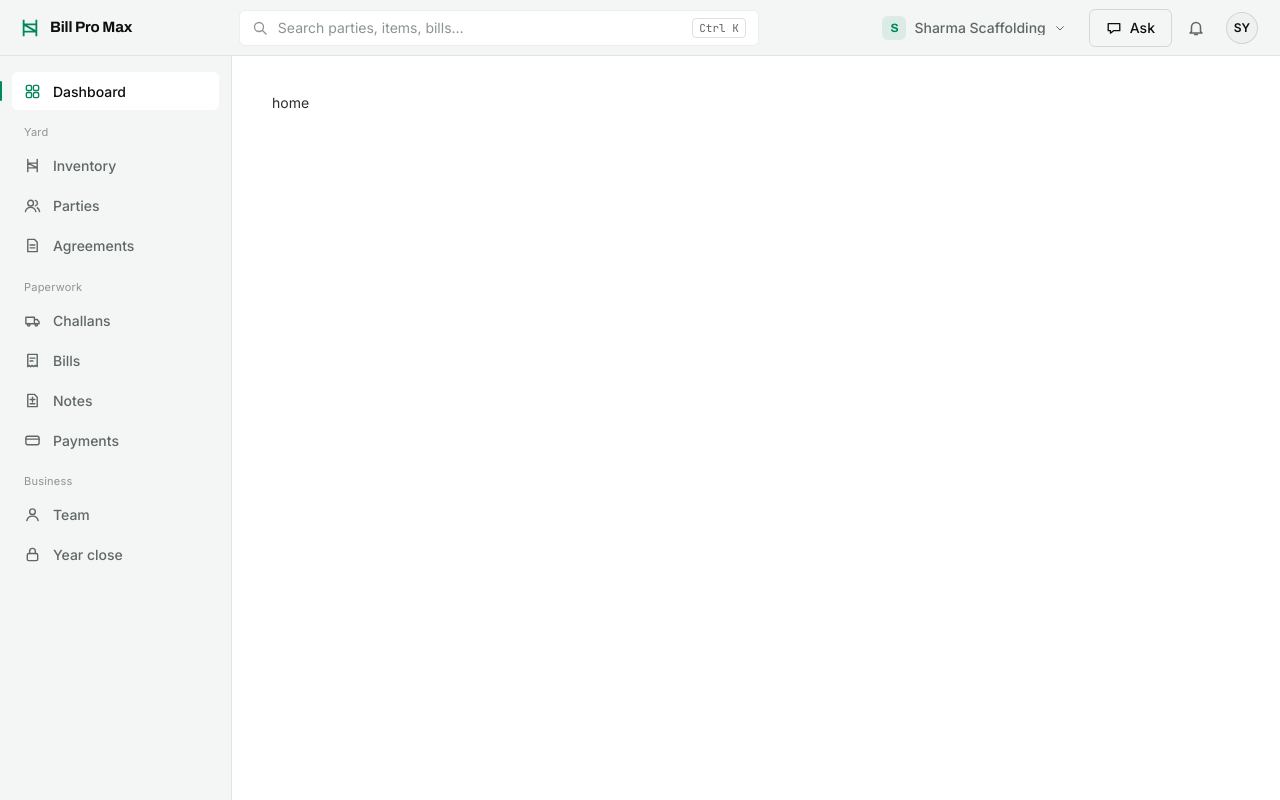
Test: Layout › picks the theme from the profile menu
Click the button with aria-label "Account". click: (1242, 28)
box: [1224, 10, 1260, 46]
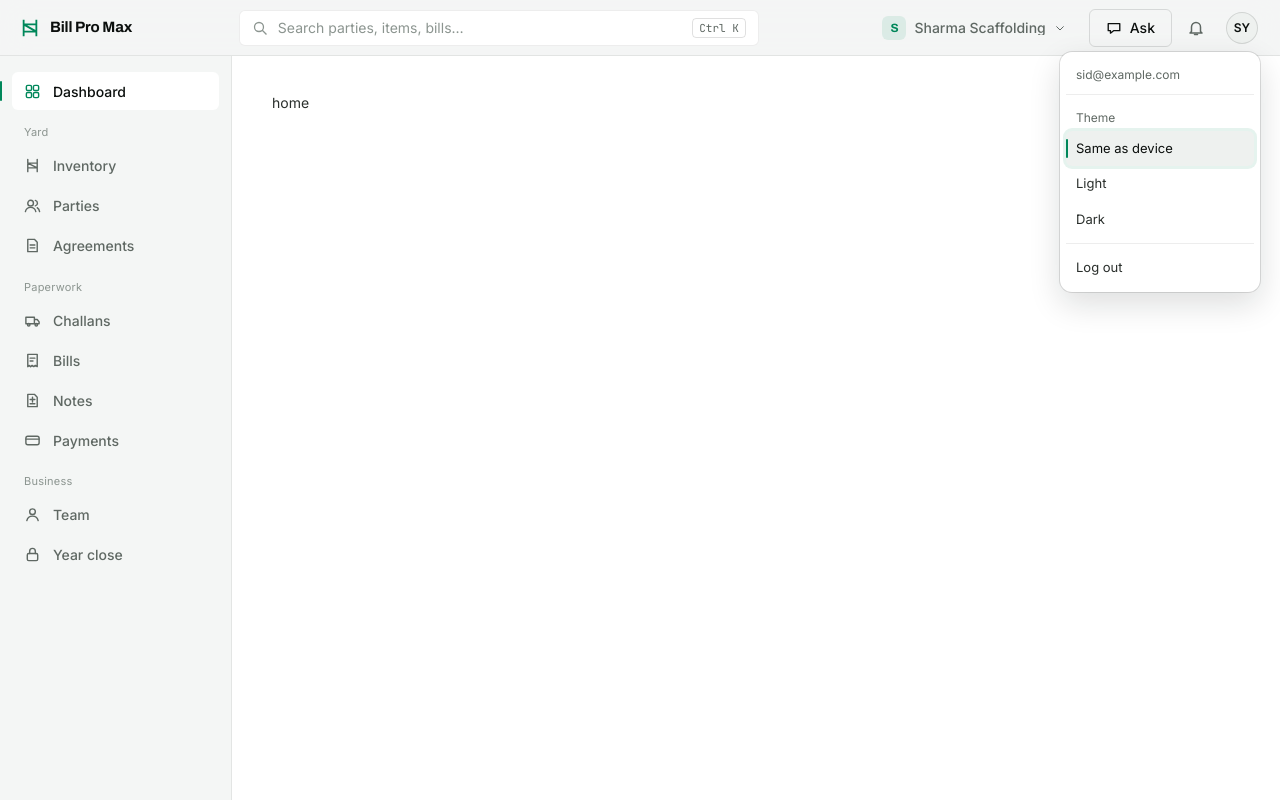
Result: the text "Theme" is shown at [1076, 110, 1115, 124]
Click the menu item "Light". click: (1160, 184)
box: [1066, 166, 1254, 202]
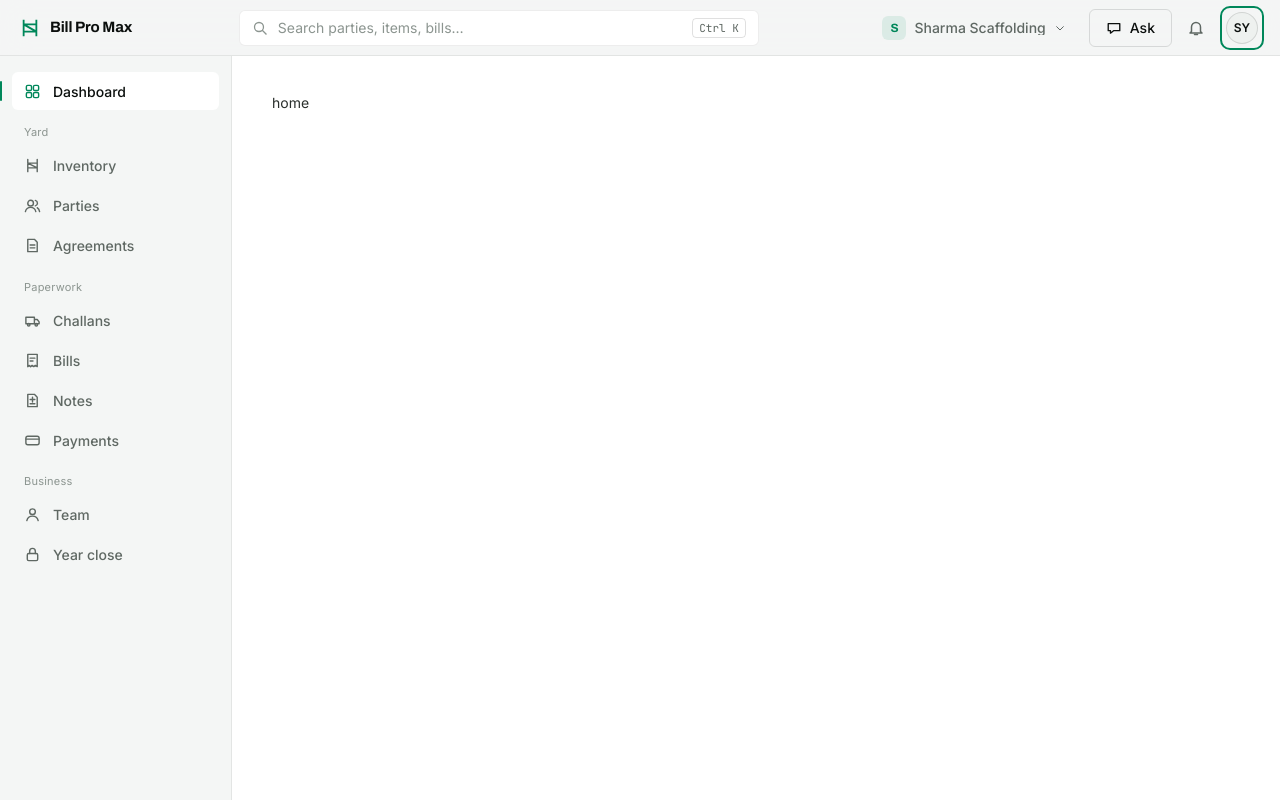
Click the button with aria-label "Account". click: (1242, 28)
box: [1224, 10, 1260, 46]
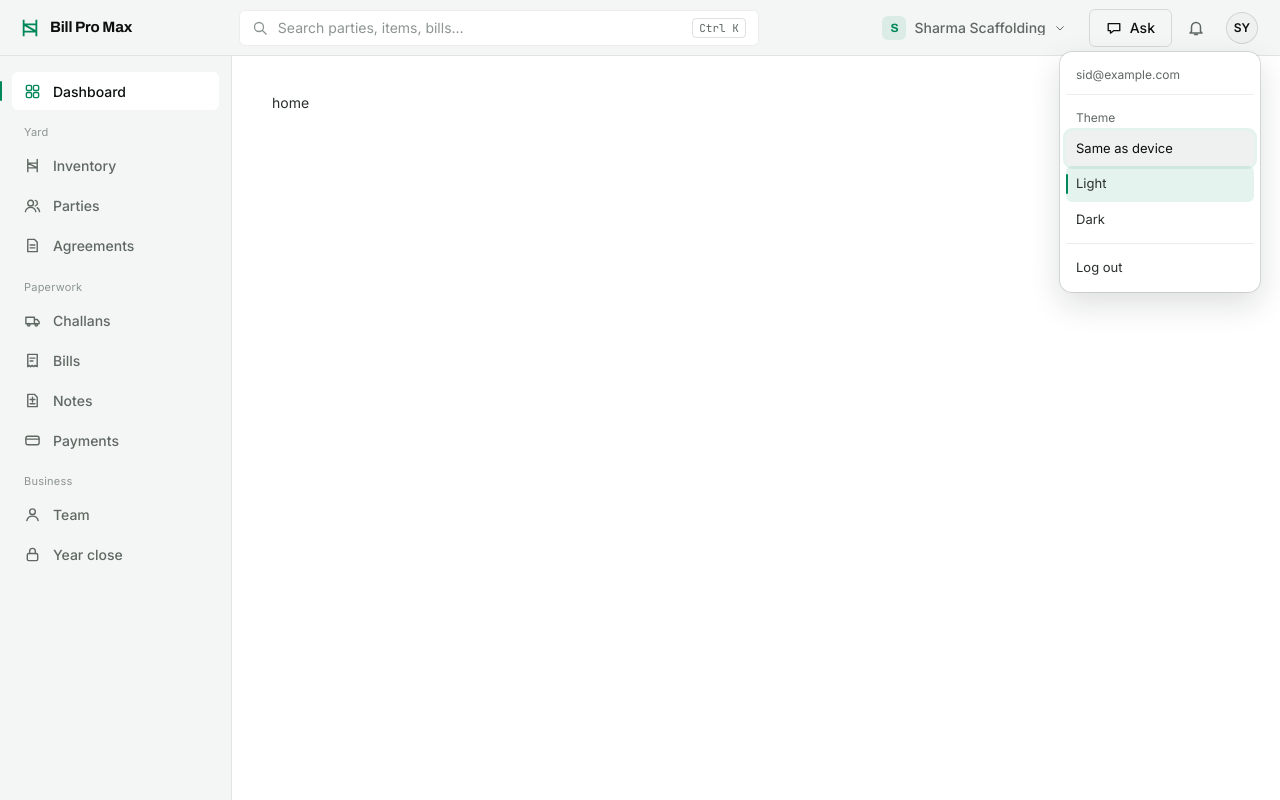
Result: the menu item "Light" is marked as current at [1066, 166, 1254, 202]
